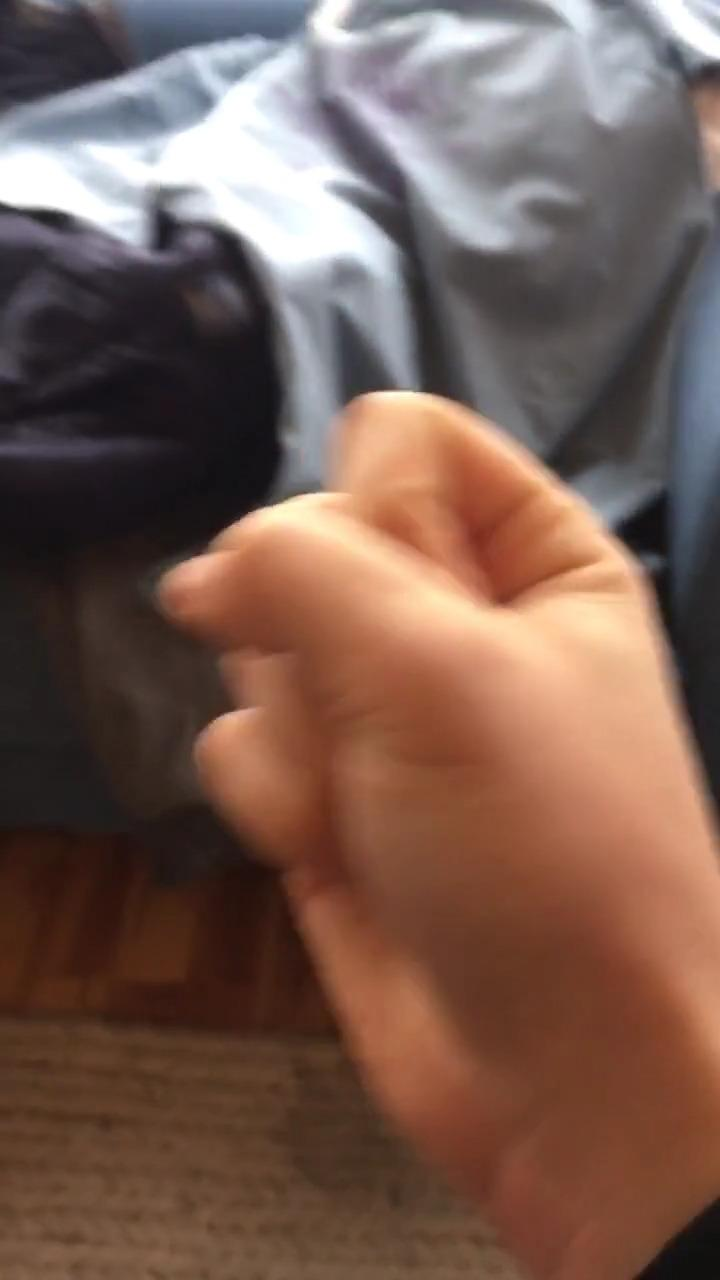Rock: (168, 392, 720, 1173)
